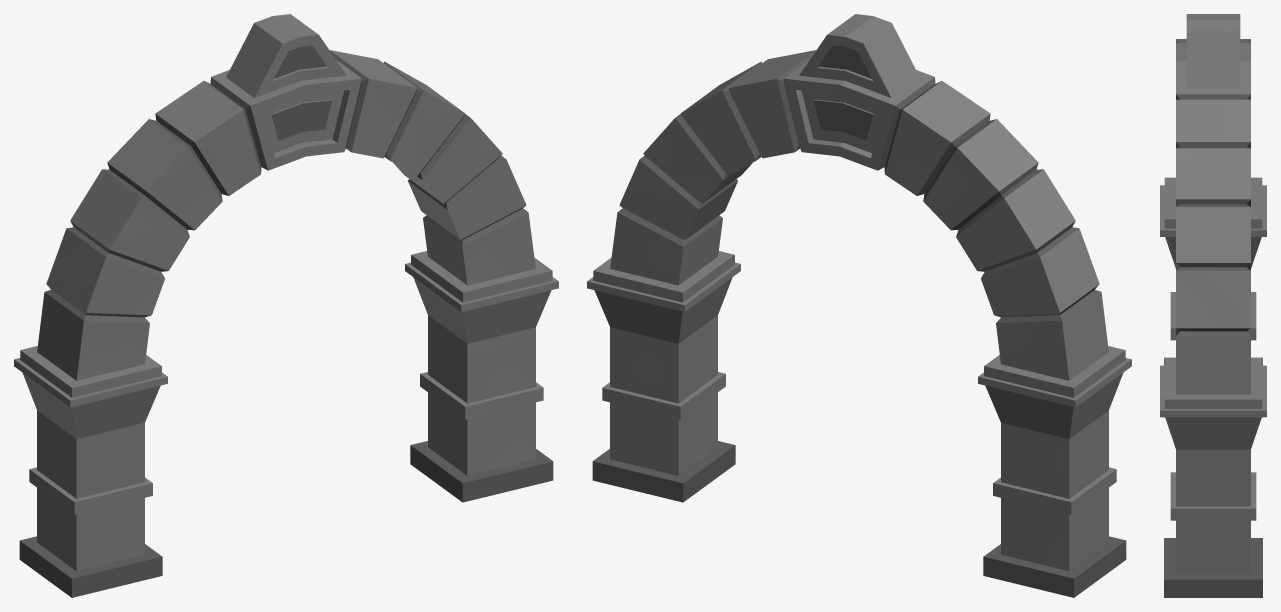
The model's file is Big_Arch.fbx.
3 renders of one model, left to right at view 1: azimuth 30°, elevation 25°; view 2: azimuth 150°, elevation 25°; view 3: azimuth 270°, elevation 25°, orthographic. The views are drawn at different scales.
Visible parts, largest first — view 1: Big Arch; view 2: Big Arch; view 3: Big Arch.
Boxes of the visible parts, x1,y1,x2,y2 form: Big Arch: (14,14,558,597); Big Arch: (587,14,1131,597); Big Arch: (1160,14,1266,597).
Bounding box in the file's own units: 488 × 471 × 97.56.
